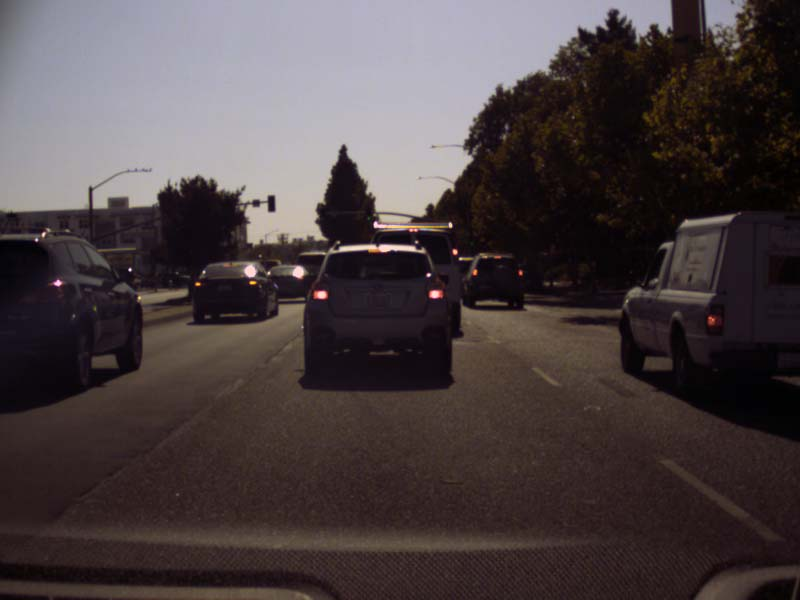Green: (365, 207, 371, 221)
